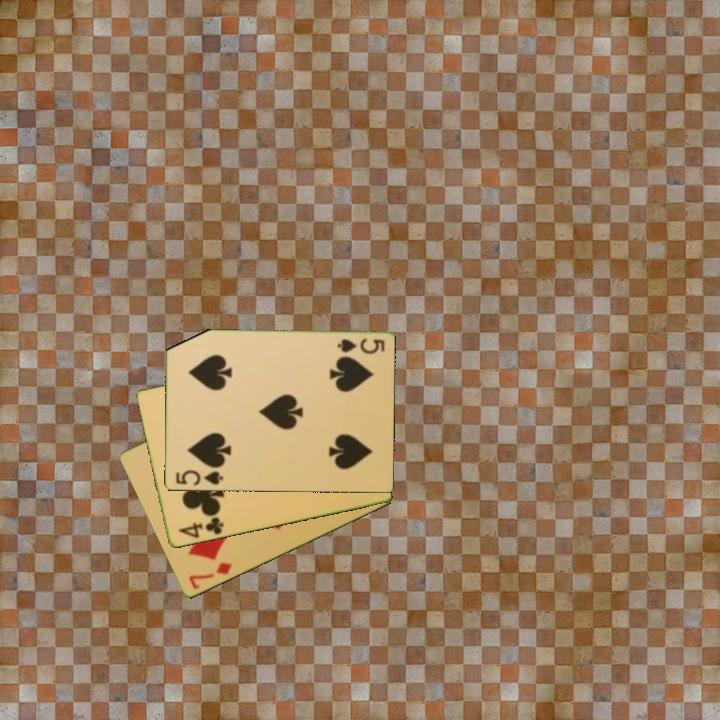4c: (175, 514, 226, 541)
5s: (172, 467, 226, 488), (334, 336, 387, 357)
7d: (185, 559, 235, 593)
